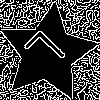L: (23, 28, 75, 80)
